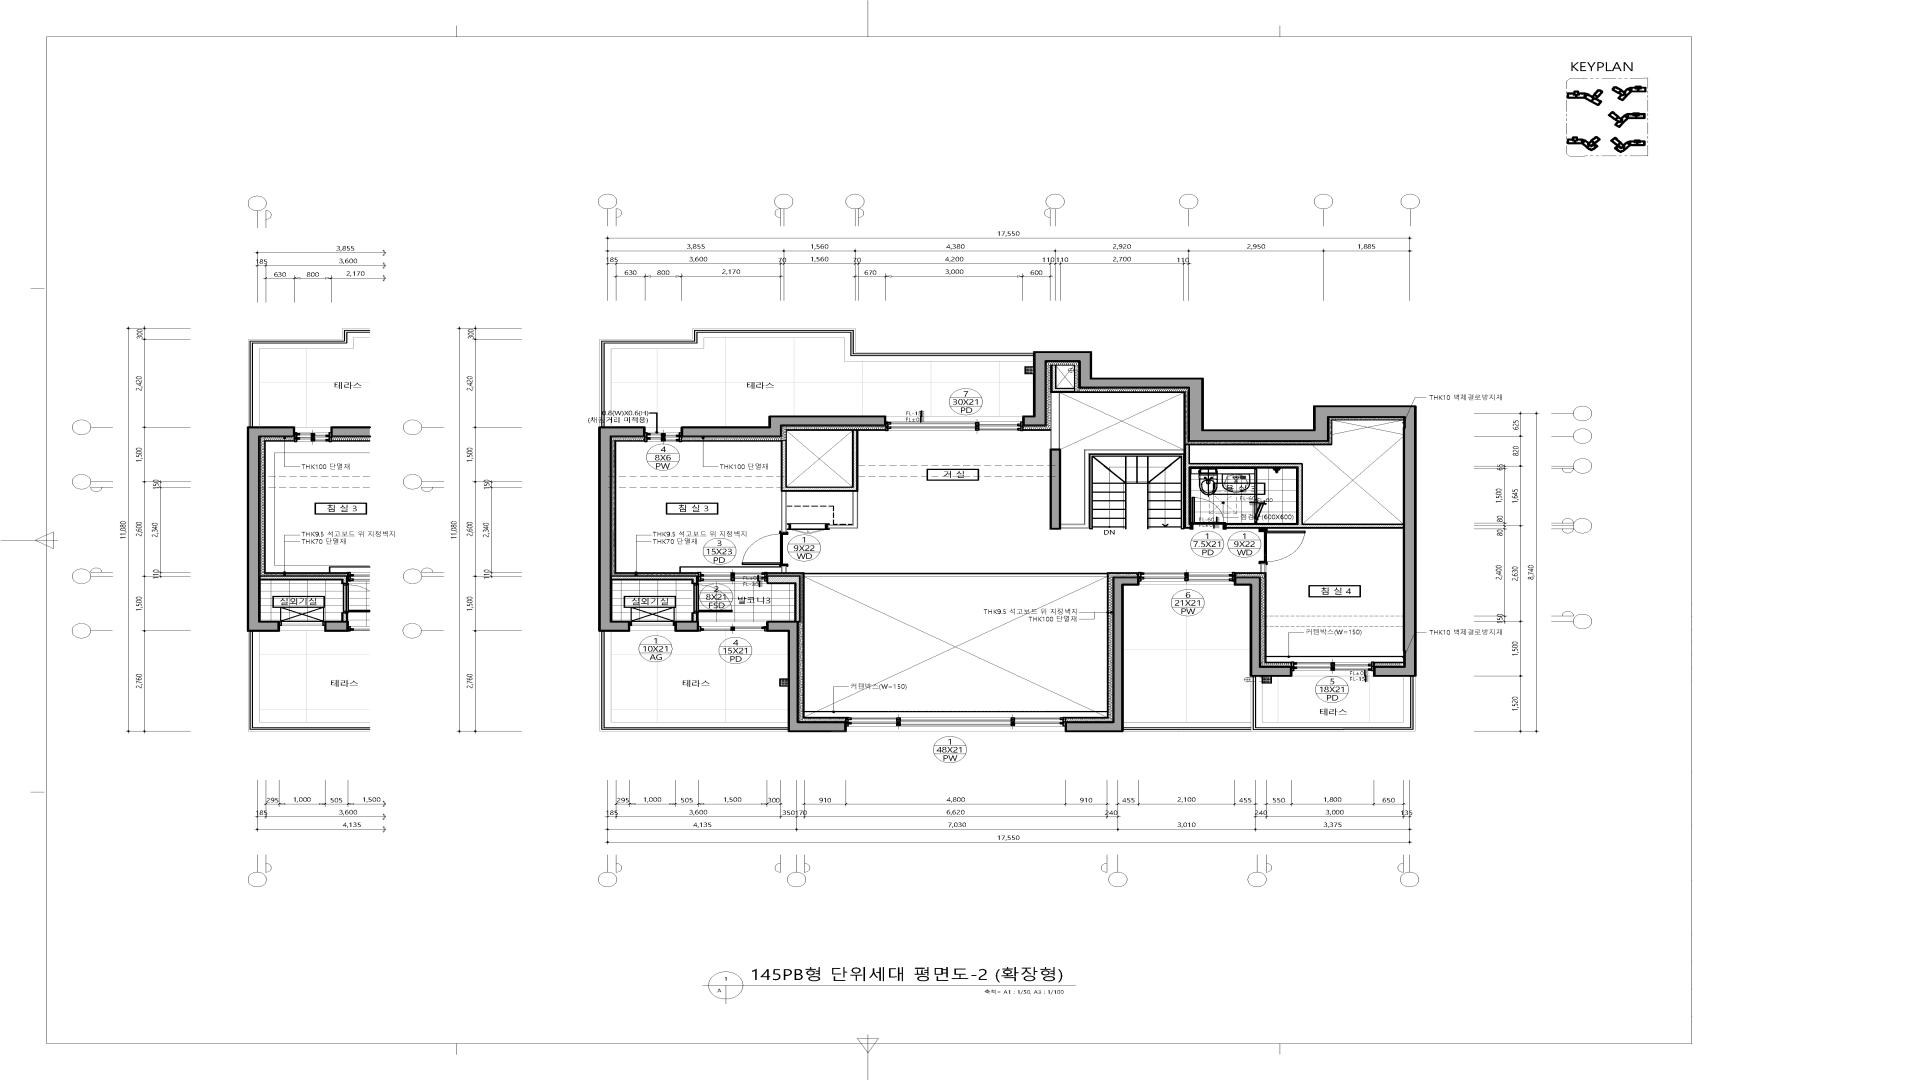door: (1258, 529, 1305, 563), (741, 533, 789, 566), (1191, 497, 1225, 530), (789, 524, 828, 534)
wall: (1022, 351, 1416, 676), (599, 328, 1033, 426), (1062, 446, 1403, 529), (599, 632, 787, 732), (1124, 676, 1415, 732), (1064, 576, 1139, 732), (599, 426, 645, 632), (766, 621, 847, 732), (781, 430, 858, 533), (1234, 576, 1292, 676), (680, 415, 886, 438), (766, 576, 799, 621), (1050, 448, 1062, 530), (612, 576, 698, 584), (1051, 365, 1075, 393), (1051, 393, 1060, 448), (674, 621, 699, 632), (691, 612, 699, 621), (1261, 563, 1266, 572), (781, 566, 787, 572)
window: (847, 717, 1064, 732), (886, 421, 1022, 431), (1292, 662, 1373, 676), (1139, 572, 1234, 584), (698, 572, 766, 582), (699, 622, 766, 632), (630, 621, 674, 630), (646, 433, 680, 443)
